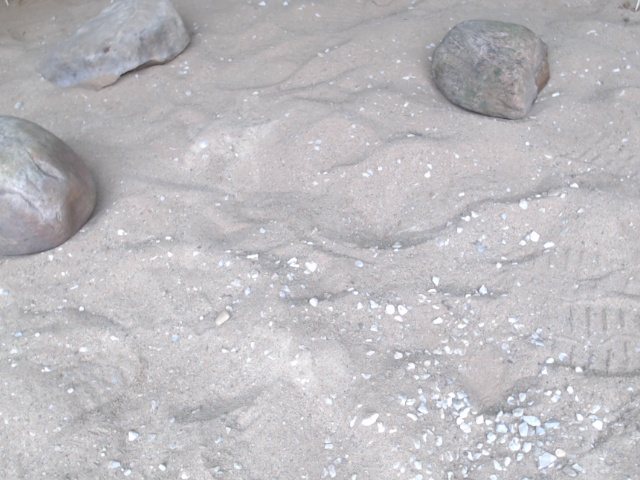rock: (35, 1, 189, 92), (1, 114, 97, 259), (430, 18, 550, 119)
